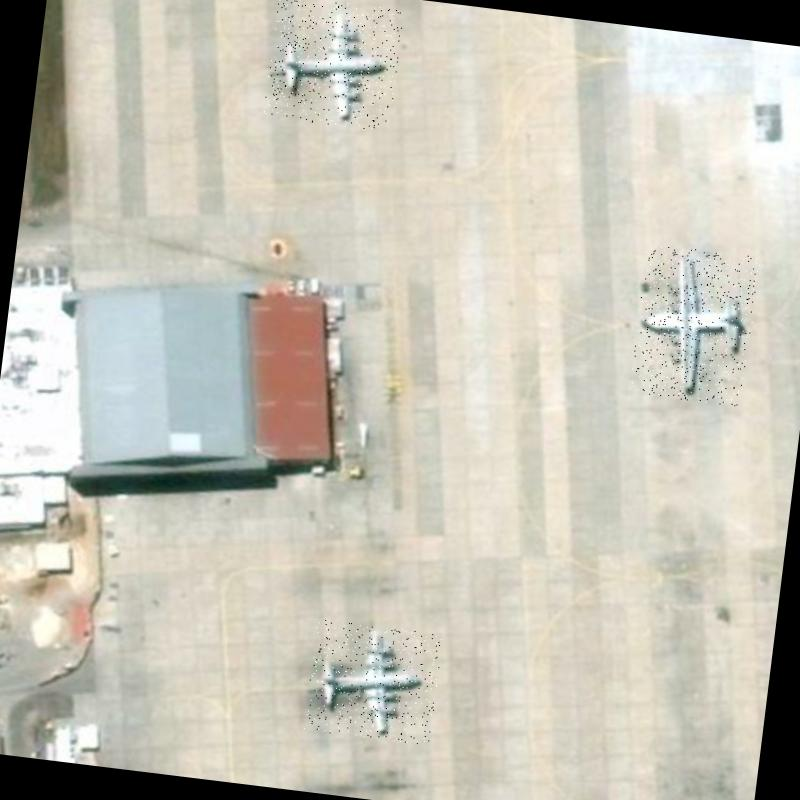A2: (628, 243, 760, 407)
A9: (262, 0, 403, 132), (303, 618, 443, 746)
